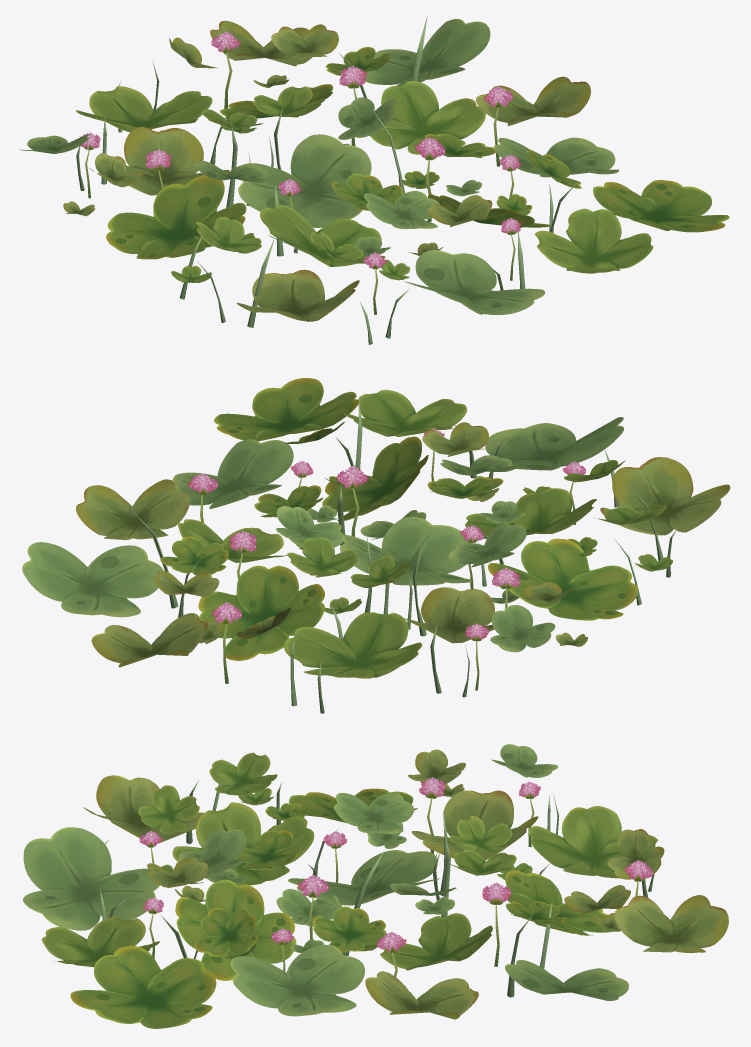
Rendered from clover_3.fbx.
The picture shows the model from 3 angles, top to bottom: view 1: azimuth 30°, elevation 25°; view 2: azimuth 150°, elevation 25°; view 3: azimuth 270°, elevation 25°; orthographic projection. The views are drawn at different scales.
Parts seen in each view (by area): view 1: clover_3_low; view 2: clover_3_low; view 3: clover_3_low.
Boxes of the visible parts, <box> form: clover_3_low: <box>20,16,729,344</box>; clover_3_low: <box>22,378,730,713</box>; clover_3_low: <box>23,744,728,1028</box>.
Bounding box in the file's own units: 162 × 30.04 × 196.
